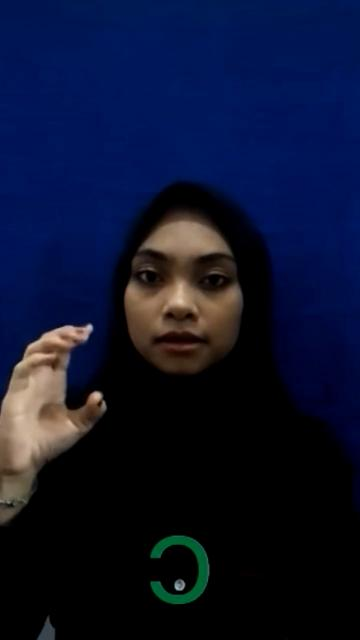C: (0, 322, 112, 478)
